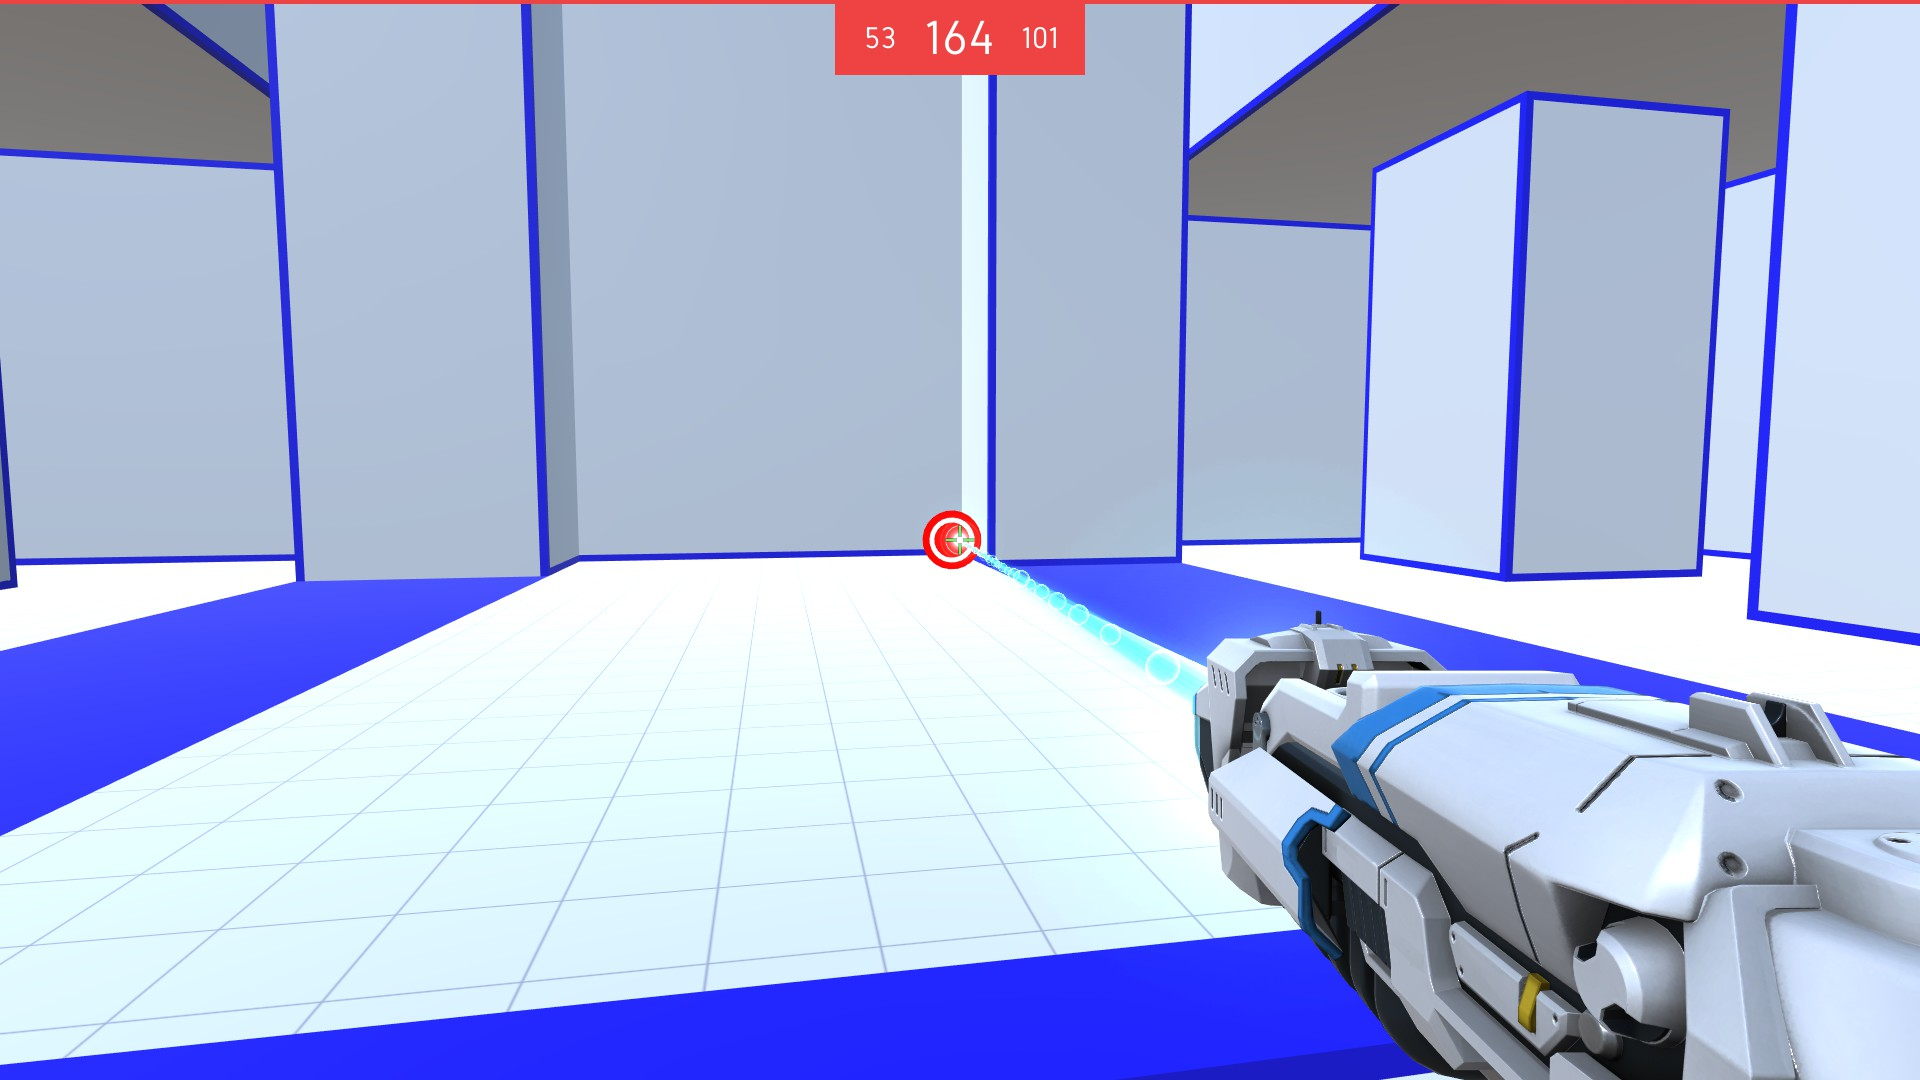target: (919, 506, 984, 568)
